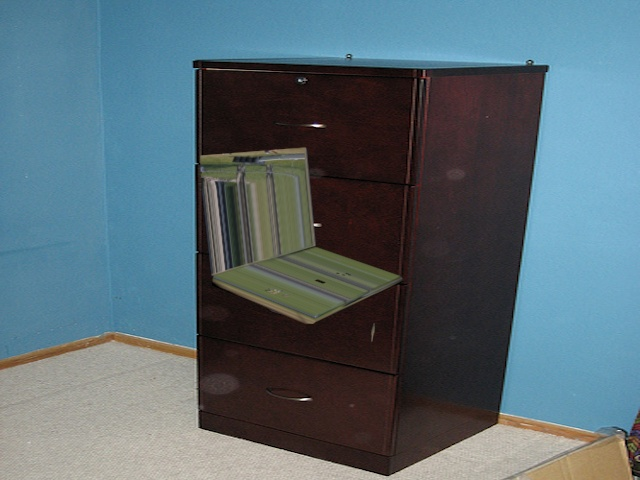laptop_computer: (192, 144, 416, 344)
